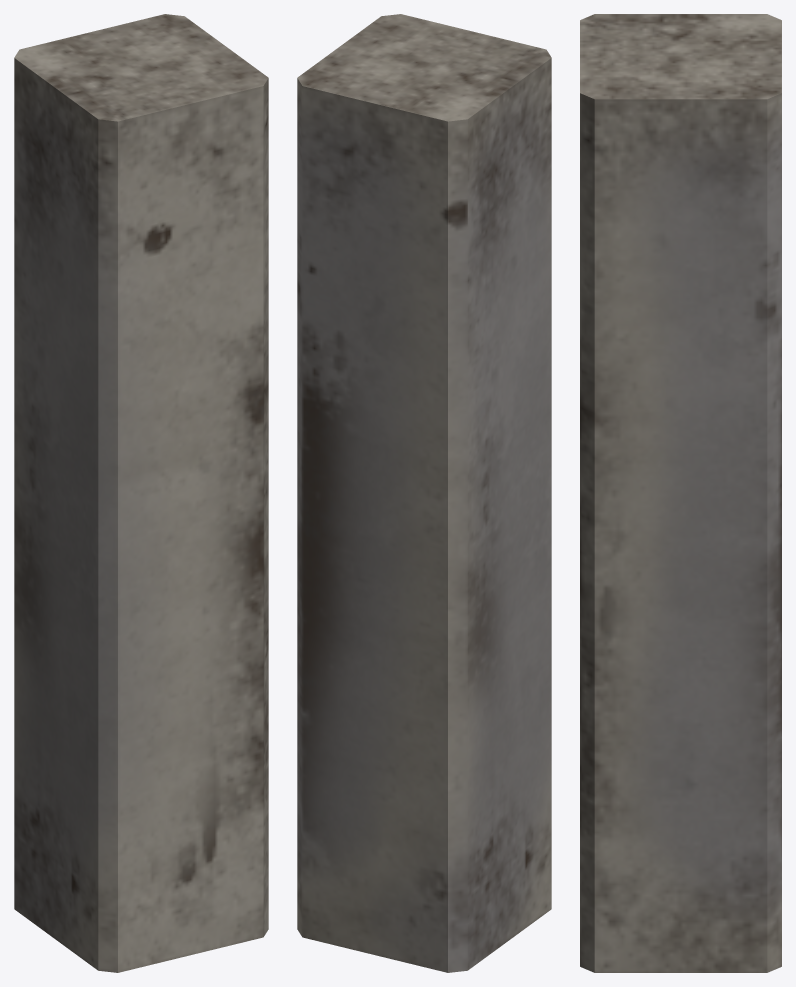
Rendered from BLD_Pillar.fbx.
3 views of the same model, side by side, from view 1: azimuth 30°, elevation 25°; view 2: azimuth 150°, elevation 25°; view 3: azimuth 270°, elevation 25° (orthographic). The views are drawn at different scales.
Visible parts, largest first — view 1: column square; view 2: column square; view 3: column square.
Boxes of the visible parts, left/top/right/bottom form: column square: left=14, top=14, right=268, bottom=972; column square: left=297, top=14, right=551, bottom=972; column square: left=580, top=14, right=781, bottom=972.
Bounding box in the file's own units: 131 × 627 × 131.
1 material, 1 textured.
